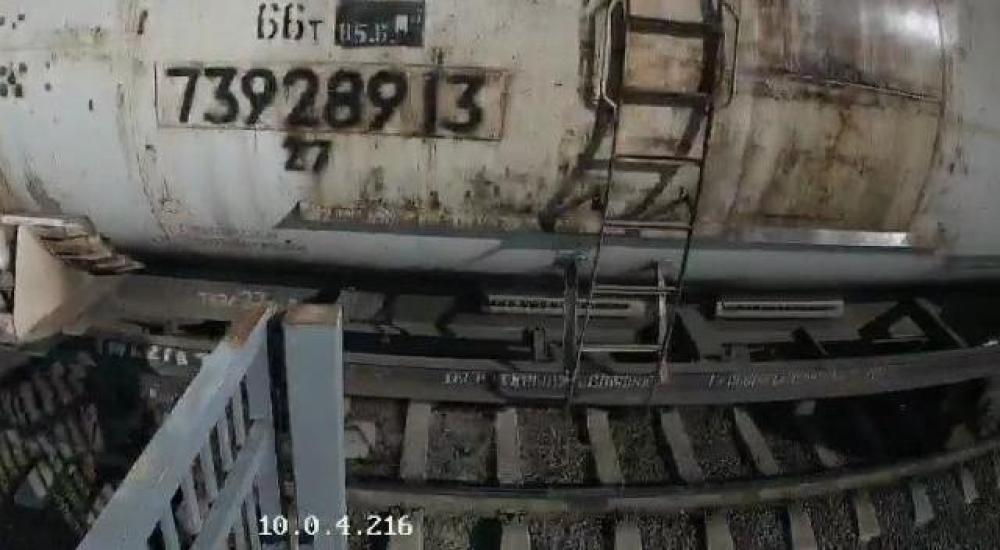Wagon-number: (159, 62, 489, 136)
